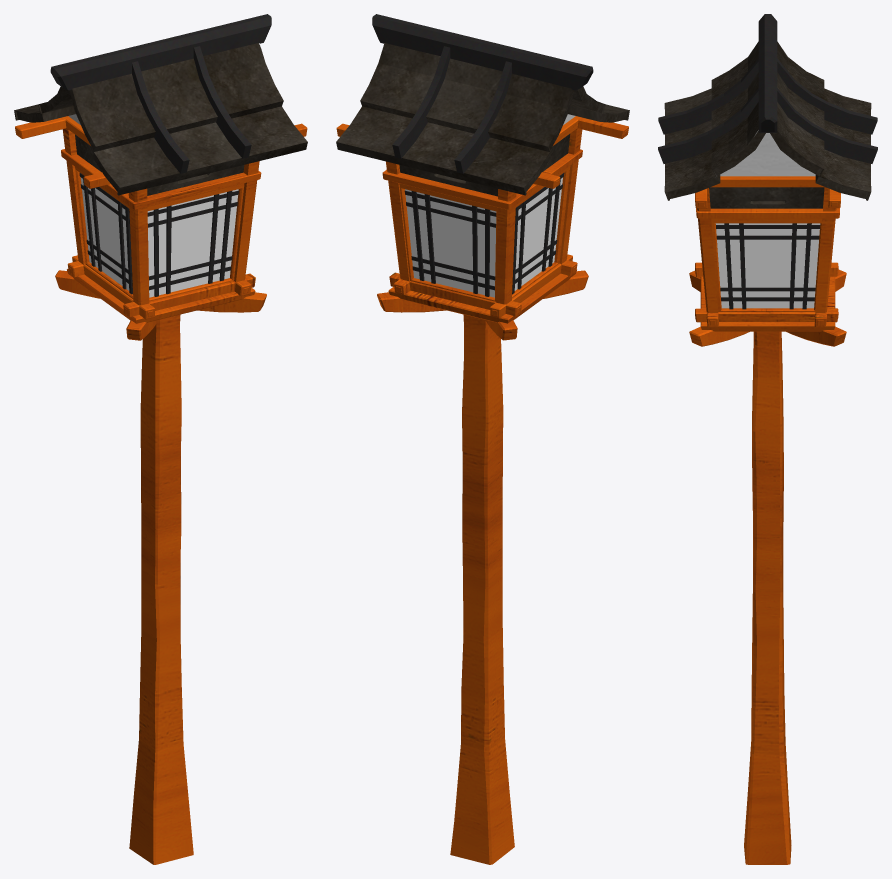
File: Japan_Lamp.fbx
The picture shows the model from 3 angles, left to right: view 1: azimuth 30°, elevation 25°; view 2: azimuth 150°, elevation 25°; view 3: azimuth 270°, elevation 25°; orthographic projection. The views are drawn at different scales.
Parts seen in each view (by area): view 1: Lamp; view 2: Lamp; view 3: Lamp.
Boxes of the visible parts, left/top/right/bottom form: Lamp: left=14, top=14, right=307, bottom=864; Lamp: left=336, top=14, right=629, bottom=864; Lamp: left=658, top=14, right=877, bottom=864.
Bounding box in the file's own units: 120 × 426 × 107.
